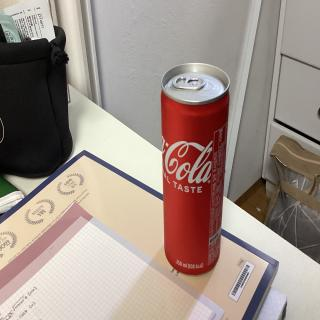cocacola: (158, 60, 232, 283)
